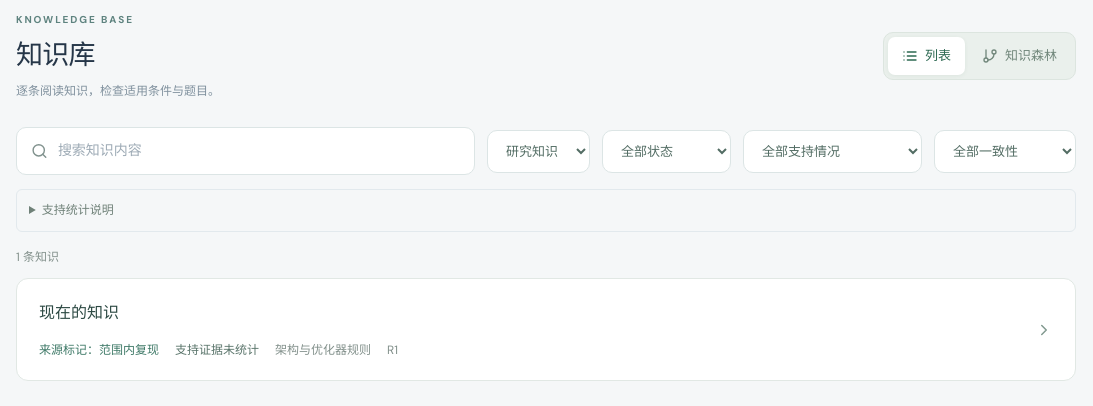
Test case: filters the actually displayed revision rather than borrowing verification from a newer revision
Expected: the button with aria-label "阅读 R1 现在的知识" is shown, [16, 278, 1076, 381]
Select "范围内已验证" in the dropdown named "验证状态" at [666, 151], box [602, 130, 731, 172]
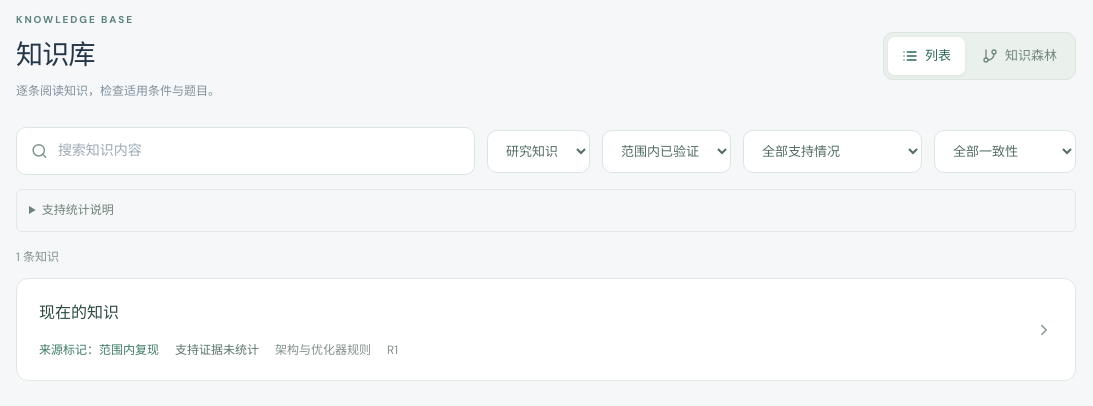
Type "早期未验证" into the search field named "搜索知识库".
click(259, 151); type("早期未验证")  # box [58, 128, 460, 174]
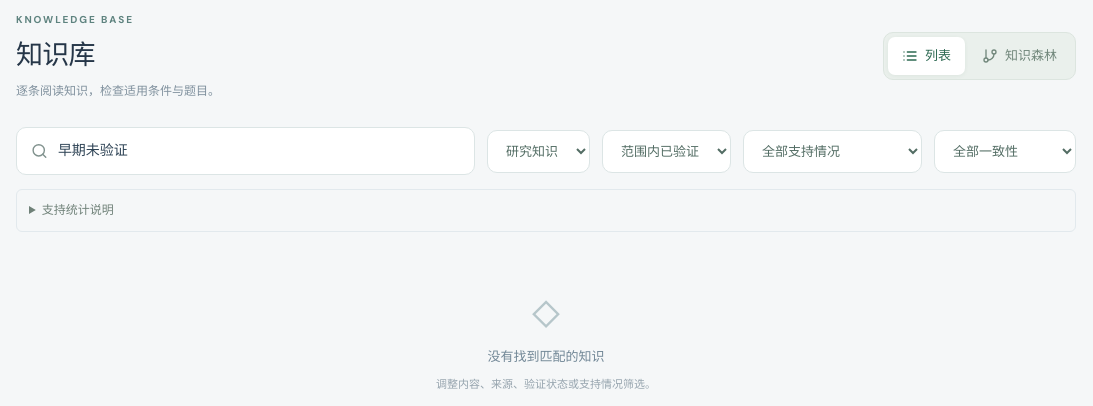
Result: the text "没有找到匹配的知识" is shown at [488, 347, 604, 367]
Select "待验证" in the dropdown named "验证状态" at [666, 151], box [602, 130, 731, 172]
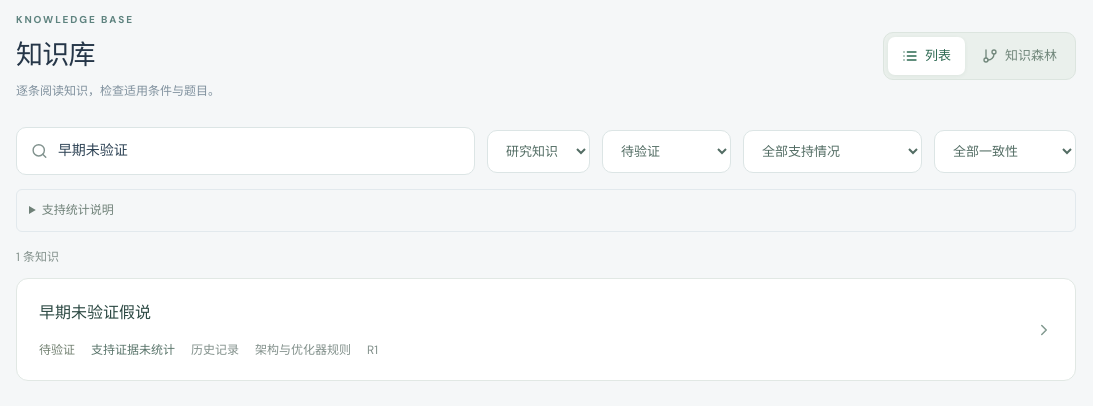
Result: the text "待验证" is shown at [39, 342, 75, 360]
Result: the text "历史记录" is shown at [191, 342, 239, 360]
